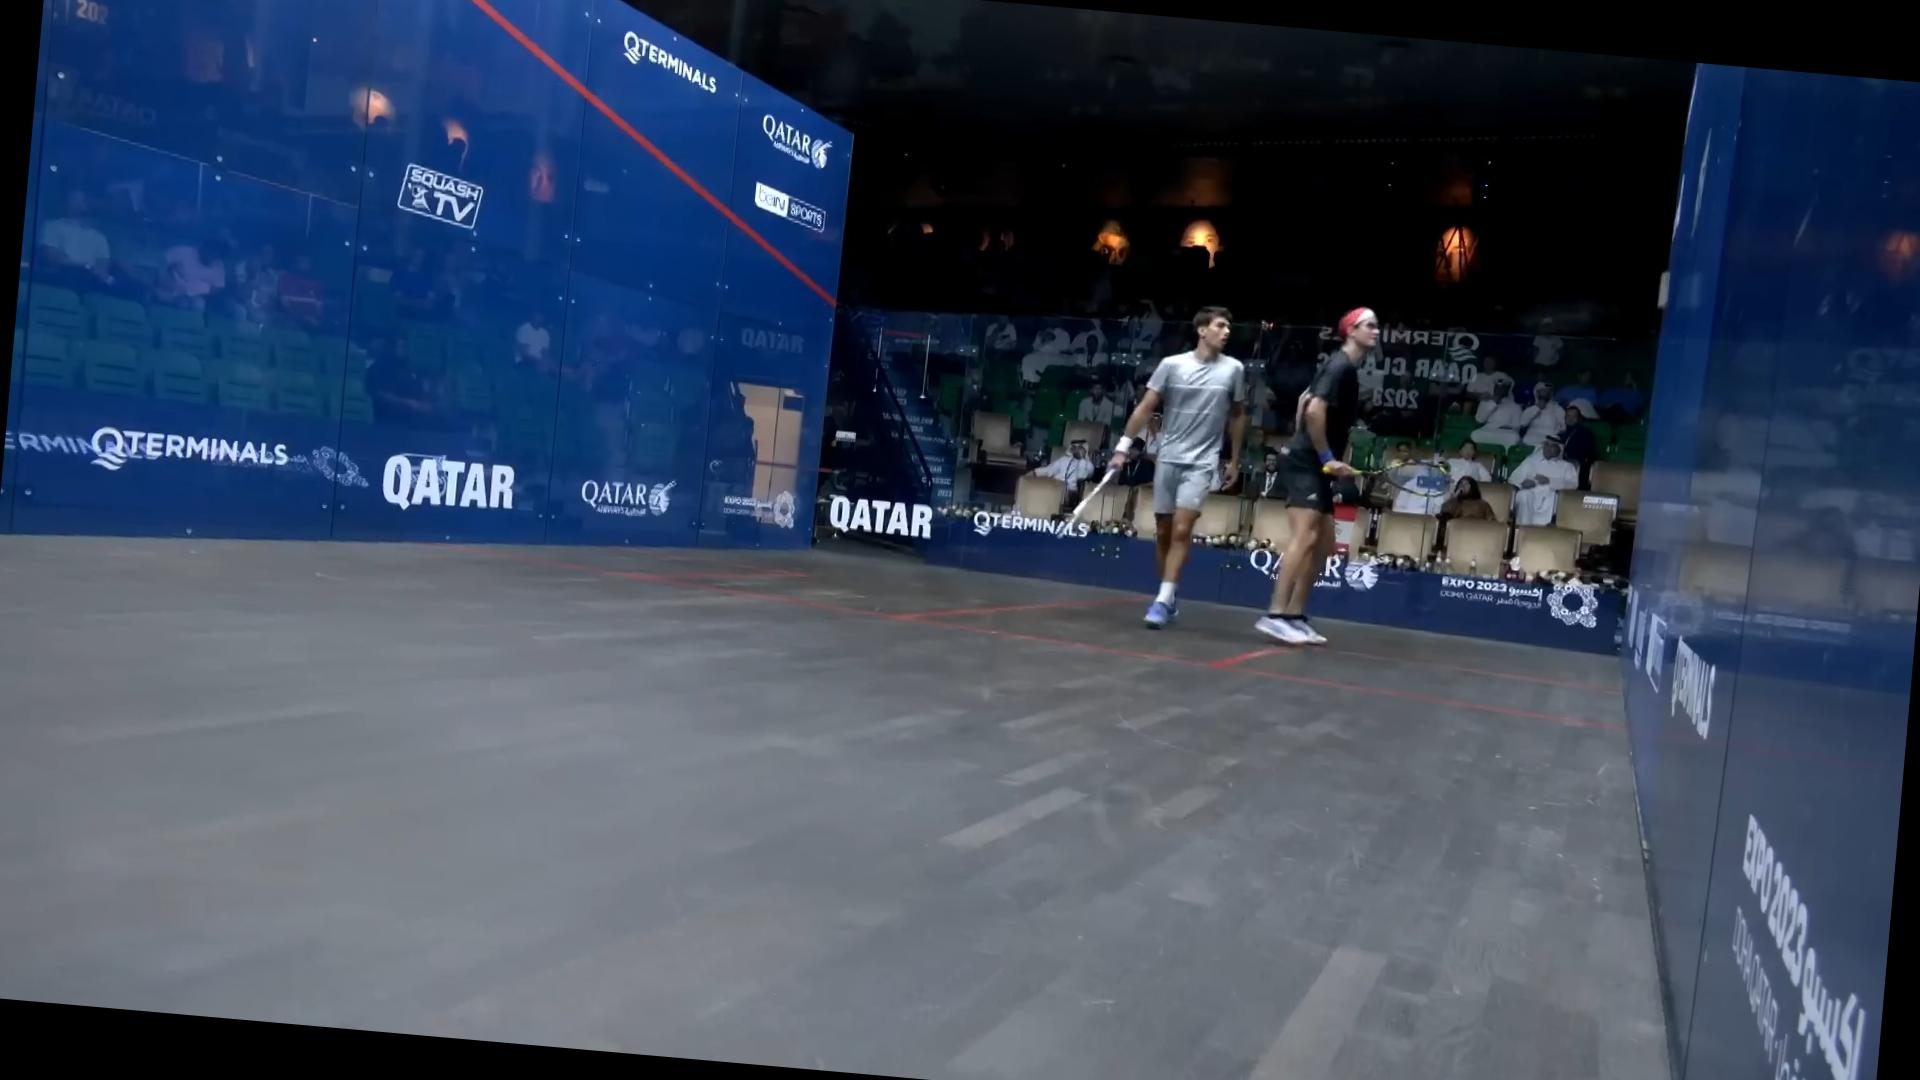Racket: (1356, 448, 1457, 508)
